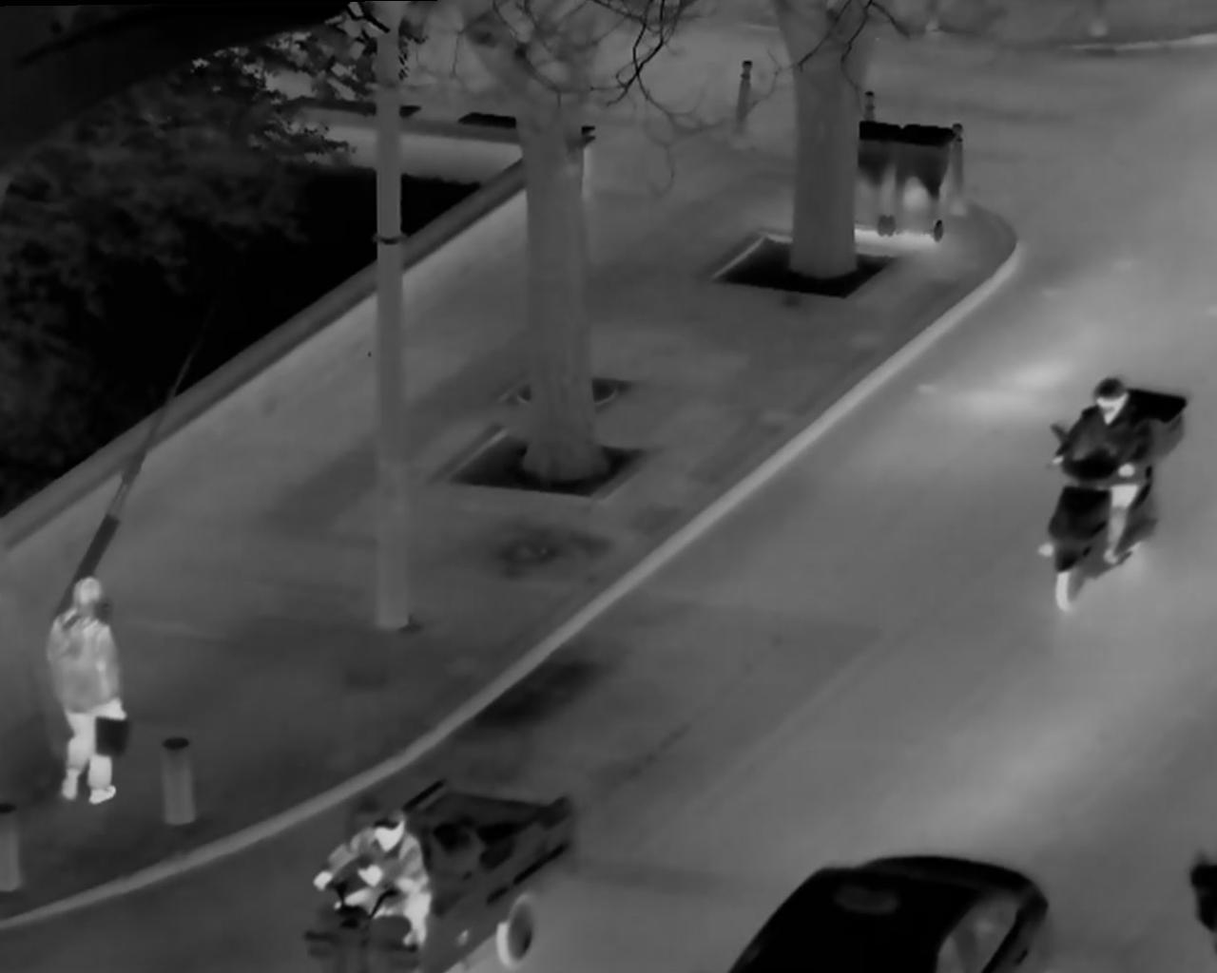person: (34, 564, 150, 821), (1054, 359, 1159, 583), (330, 794, 438, 951)
